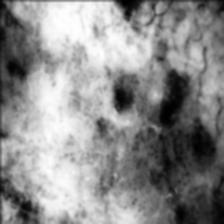Potentially Malignant Skin Tumors: (154, 69, 194, 120), (0, 178, 40, 224), (108, 72, 134, 114), (104, 0, 141, 21), (4, 60, 24, 76)
